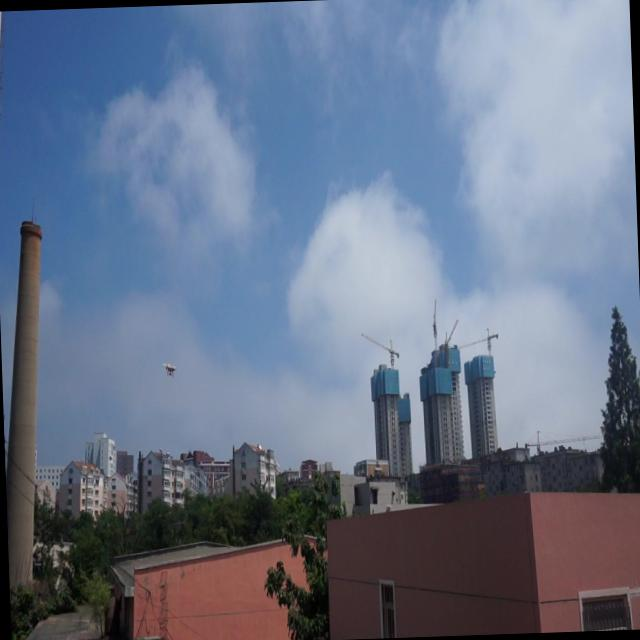drone: (162, 360, 178, 380)
